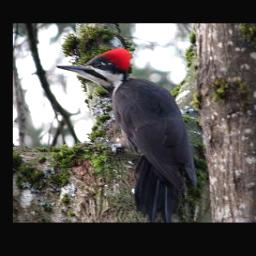Woodpecker: (54, 46, 205, 217)
